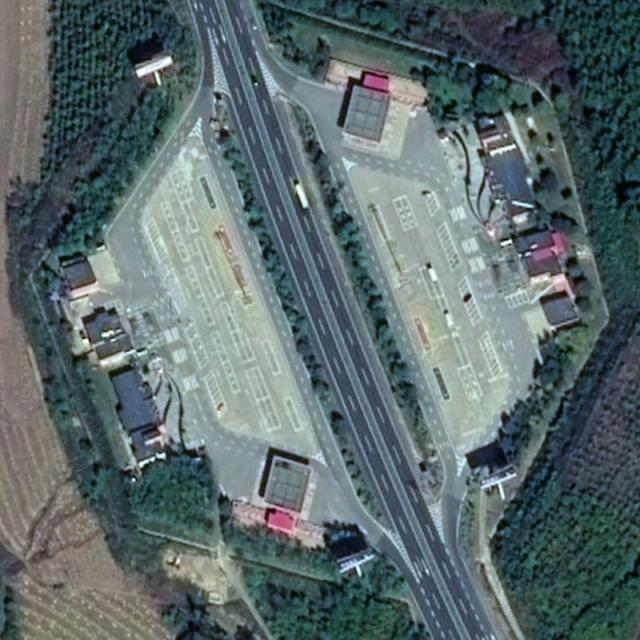vehicle: (294, 183, 309, 210), (428, 268, 438, 282), (444, 313, 454, 327)
